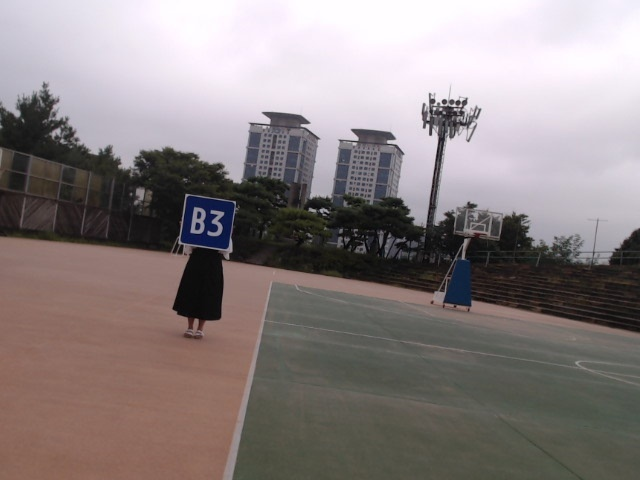delivery_b3: (178, 193, 236, 251)
